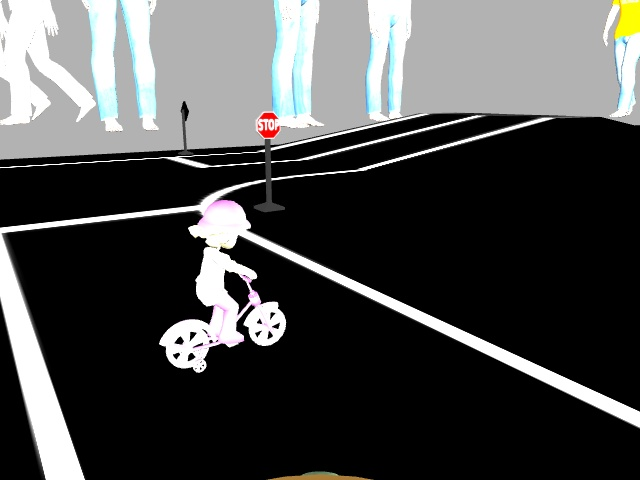Pedestrian: (154, 202, 300, 378), (252, 107, 283, 141)
